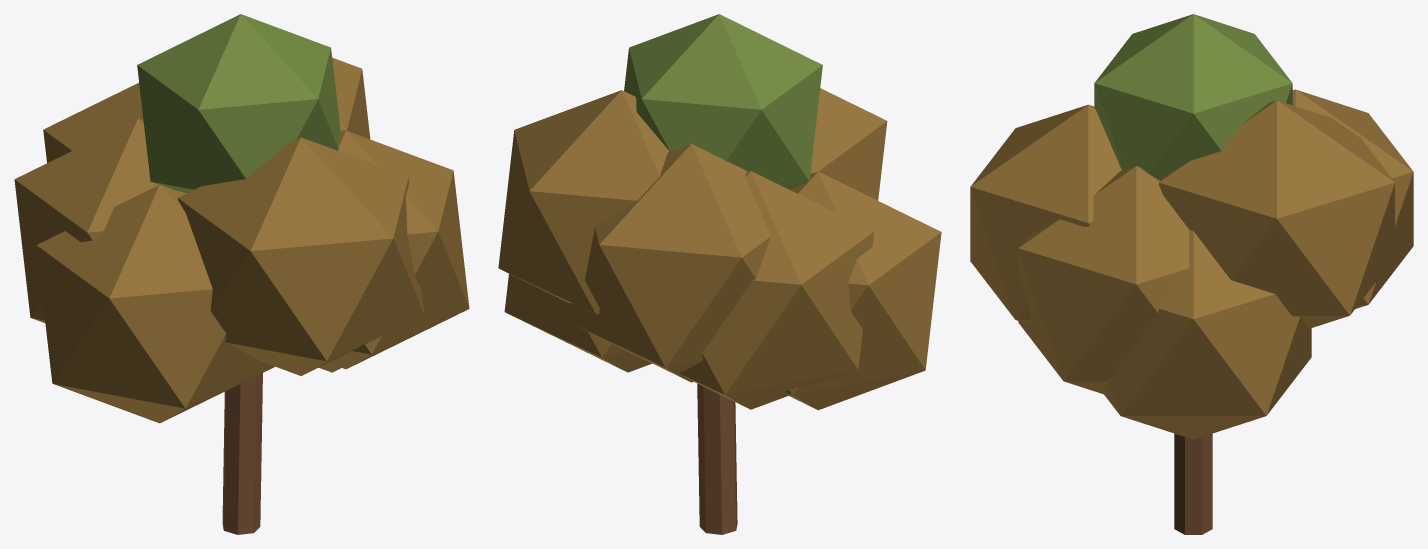
The model's file is tree_26.glb.
3 views of the same model, side by side, from view 1: azimuth 30°, elevation 25°; view 2: azimuth 150°, elevation 25°; view 3: azimuth 270°, elevation 25° (orthographic).
Parts seen in each view (by area): view 1: tree_26; view 2: tree_26; view 3: tree_26.
Part boxes in pixels (bbox=[...]): tree_26: bbox=[14, 14, 469, 534]; tree_26: bbox=[498, 14, 941, 534]; tree_26: bbox=[970, 14, 1413, 534].
Bounding box in the file's own units: 5.36 × 6.63 × 5.19.
